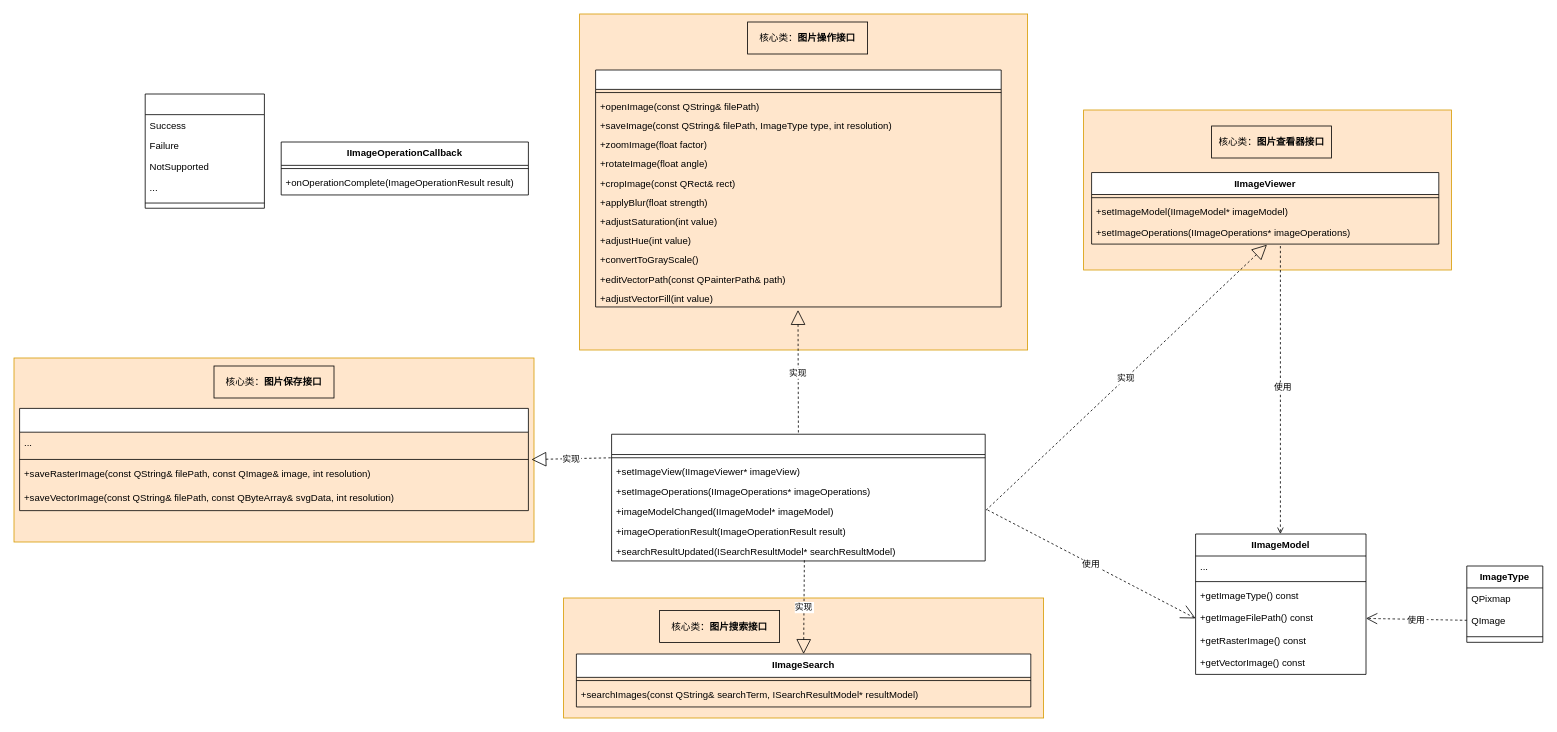
Image size: 1557x732. Some labels were removed from this diagram. Here are the shapes that lost their labels. From the top down, the box of each, then its label:
(144, 93, 264, 208): ImageOperationResult
(595, 69, 1001, 307): IImageOperations
(19, 408, 528, 511): IImageSaver
(611, 433, 985, 561): IViewModel
